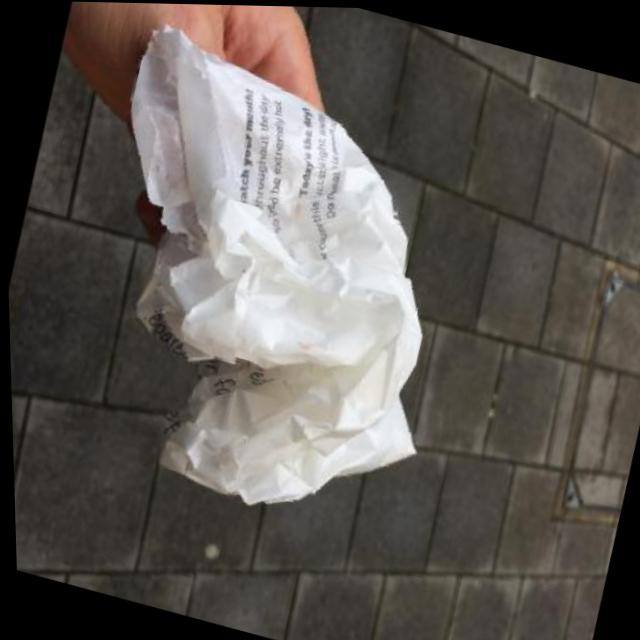paper: (36, 18, 504, 548)
